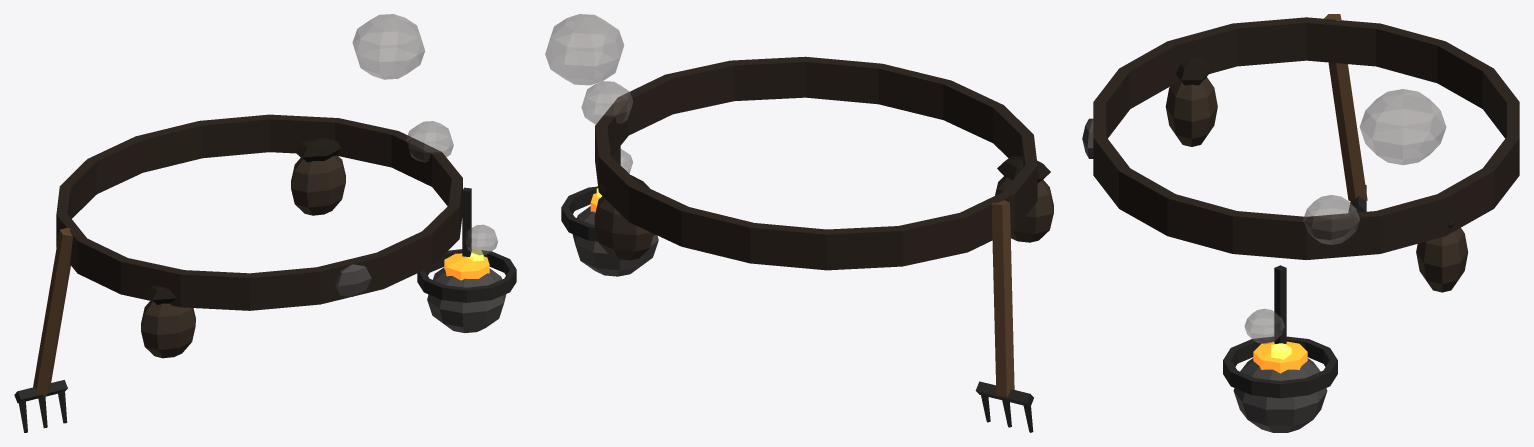
File: sootmask_belt.glb
3 views of the same model, side by side, from view 1: azimuth 30°, elevation 25°; view 2: azimuth 150°, elevation 25°; view 3: azimuth 270°, elevation 25° (orthographic). The views are drawn at different scales.
Visible parts, largest first — view 1: sootmask_belt; view 2: sootmask_belt; view 3: sootmask_belt.
Boxes of the visible parts, <box> form: sootmask_belt: <box>14,14,516,432</box>; sootmask_belt: <box>545,14,1053,432</box>; sootmask_belt: <box>1082,14,1519,432</box>.
Bounding box in the file's own units: 1.17 × 0.7401 × 0.8387.
